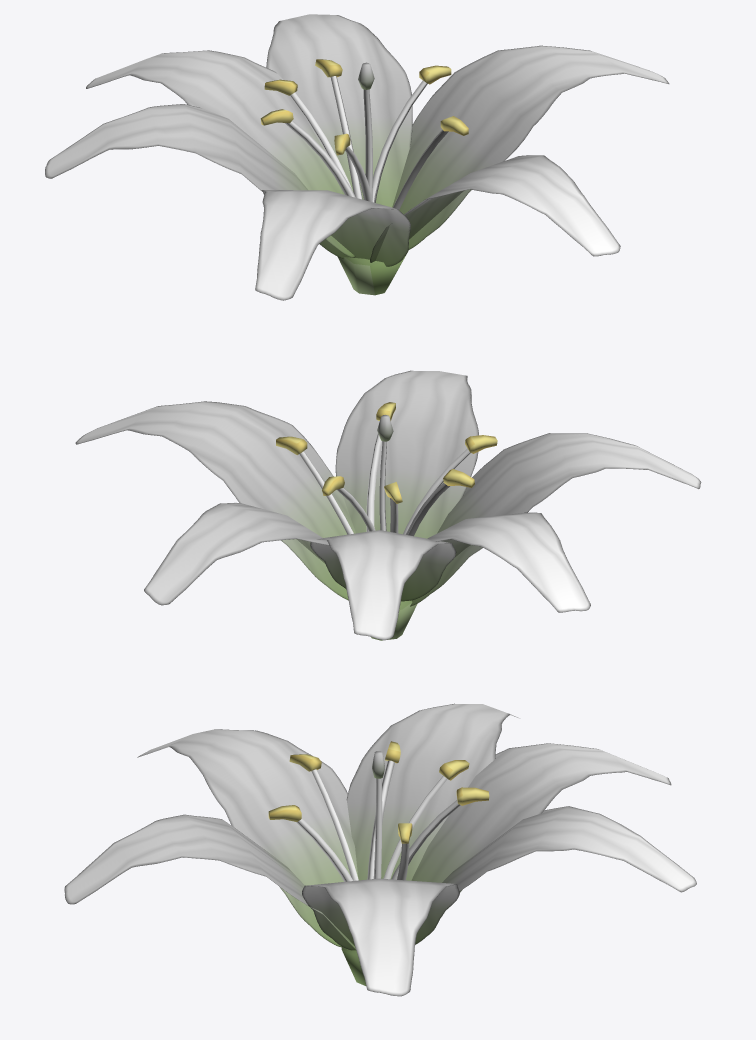
The model's file is lirio.fbx.
The picture shows the model from 3 angles, top to bottom: view 1: azimuth 30°, elevation 25°; view 2: azimuth 150°, elevation 25°; view 3: azimuth 270°, elevation 25°; orthographic projection. The views are drawn at different scales.
Visible parts, largest first — view 1: lirio; view 2: lirio; view 3: lirio.
Boxes of the visible parts, left/top/right/bottom form: lirio: left=45, top=14, right=669, bottom=300; lirio: left=75, top=370, right=701, bottom=640; lirio: left=64, top=703, right=696, bottom=996.
Bounding box in the file's own units: 0.3176 × 0.1064 × 0.311.
1 material, 1 textured.
